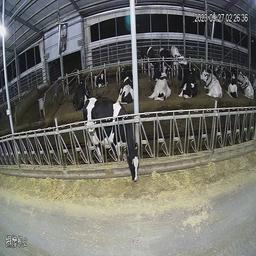cow: (82, 91, 141, 186), (176, 64, 203, 101), (70, 74, 94, 115), (200, 66, 222, 104), (116, 62, 133, 106), (220, 66, 239, 103), (239, 64, 254, 100), (139, 38, 156, 67), (94, 60, 109, 87), (159, 40, 173, 65), (175, 41, 187, 63)
